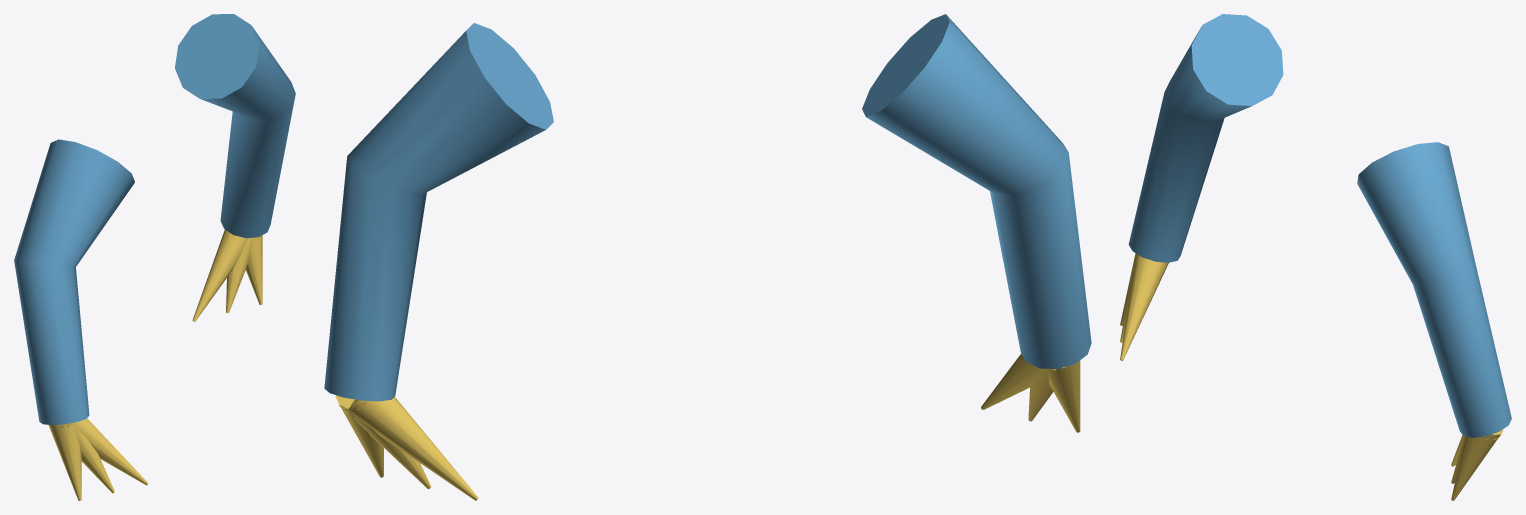
File: familiar_dragon_Legs.glb
The picture shows the model from 3 angles, left to right: view 1: azimuth 30°, elevation 25°; view 2: azimuth 150°, elevation 25°; view 3: azimuth 270°, elevation 25°; orthographic projection. The views are drawn at different scales.
Bounding box in the file's own units: 11.52 × 8.92 × 9.47.
